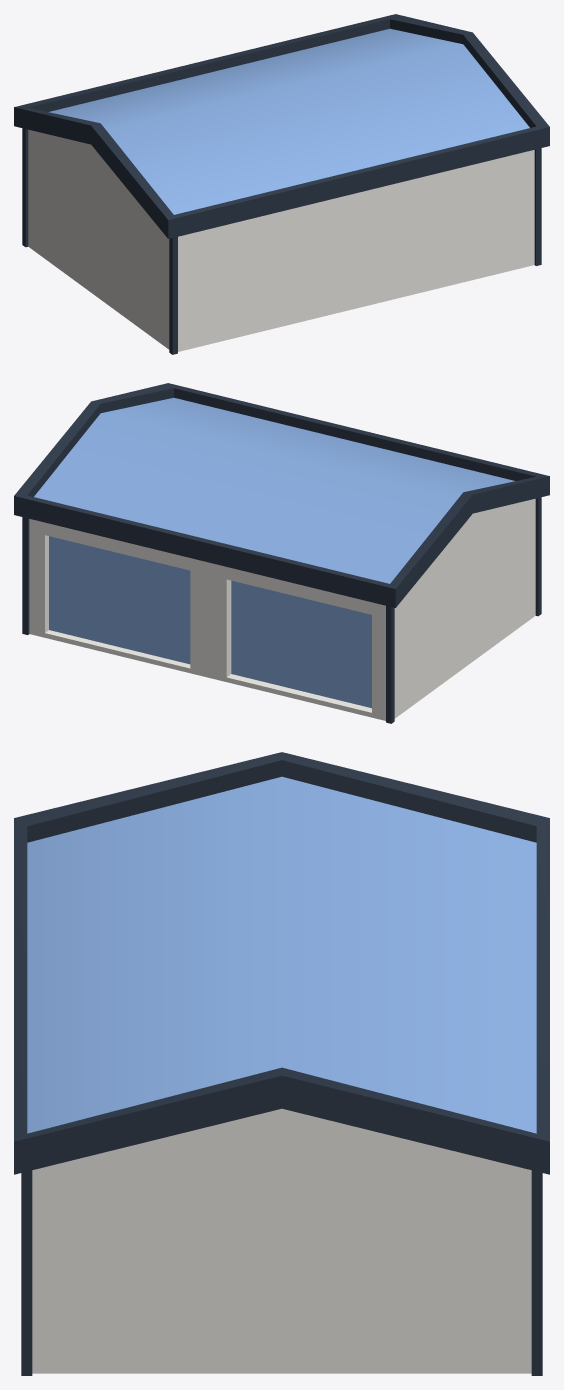
File: warehouse2.gltf
3 views of the same model, one above another, from view 1: azimuth 30°, elevation 25°; view 2: azimuth 150°, elevation 25°; view 3: azimuth 270°, elevation 25° (orthographic). The views are drawn at different scales.
Parts seen in each view (by area): view 1: Cube.005; view 2: Cube.005; view 3: Cube.005.
Boxes of the visible parts, x1,y1,x2,y2 form: Cube.005: [14, 14, 549, 354]; Cube.005: [14, 383, 549, 723]; Cube.005: [14, 752, 549, 1375].
Size of the model in its own units: 21 by 9.25 by 14.7.
1 material, 1 textured.
